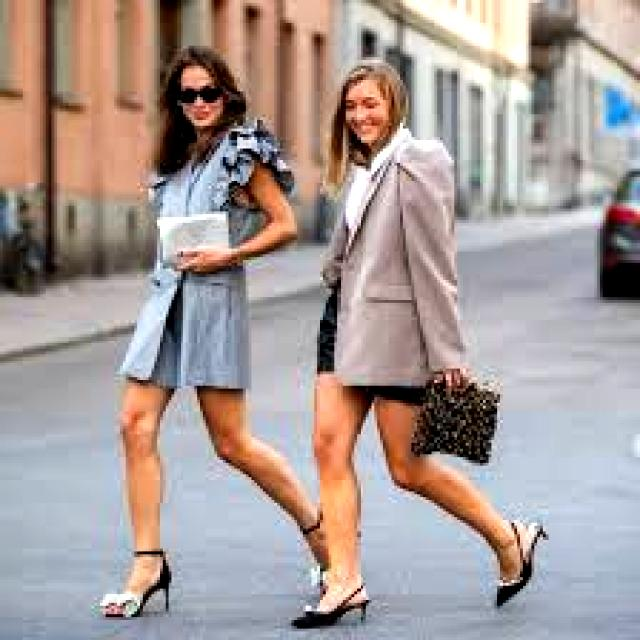dress: (152, 120, 294, 245)
